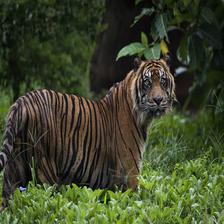tiger: (8, 52, 176, 198)
